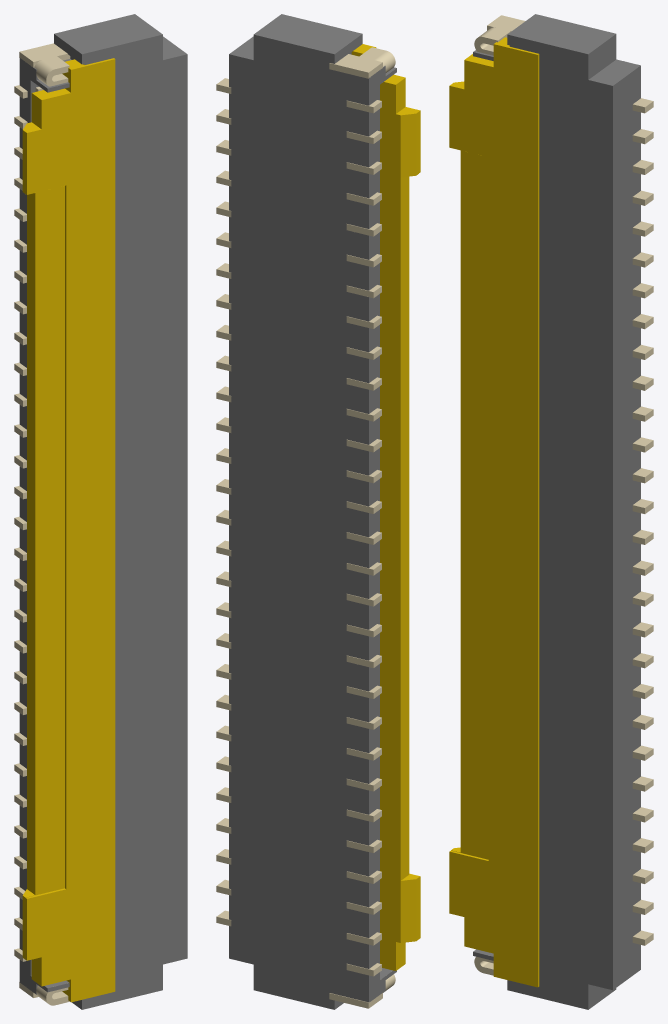
Rendered from Hirose_FH26-57S-0.3SHW_2Rows-57Pins-1MP_P0.60mm_Horizontal.glb.
The picture shows the model from 3 angles, left to right: view 1: azimuth 30°, elevation 25°; view 2: azimuth 150°, elevation 25°; view 3: azimuth 330°, elevation 25°; orthographic projection.
Visible parts, largest first — view 1: Shape_IndexedFaceSet.004, Shape_IndexedFaceSet.031, Shape_IndexedFaceSet.034, Shape_IndexedFaceSet.049, Shape_IndexedFaceSet.014, Shape_IndexedFaceSet.001, Shape_IndexedFaceSet.042, Shape_IndexedFaceSet.432; view 2: Shape_IndexedFaceSet.003, Shape_IndexedFaceSet.032, Shape_IndexedFaceSet.014, Shape_IndexedFaceSet.049, Shape_IndexedFaceSet.001, Shape_IndexedFaceSet.050, Shape_IndexedFaceSet.030, Shape_IndexedFaceSet.432; view 3: Shape_IndexedFaceSet.004, Shape_IndexedFaceSet.031, Shape_IndexedFaceSet.006, Shape_IndexedFaceSet.034, Shape_IndexedFaceSet.001, Shape_IndexedFaceSet.038, Shape_IndexedFaceSet, Shape_IndexedFaceSet.002, Shape_IndexedFaceSet.432.
Boxes of the visible parts, <box> form: Shape_IndexedFaceSet.004: <box>47,34,187,1009</box>; Shape_IndexedFaceSet.031: <box>27,59,115,1002</box>; Shape_IndexedFaceSet.034: <box>26,186,64,897</box>; Shape_IndexedFaceSet.049: <box>27,193,35,894</box>; Shape_IndexedFaceSet.014: <box>19,58,47,994</box>; Shape_IndexedFaceSet.001: <box>54,14,162,54</box>; Shape_IndexedFaceSet.042: <box>65,185,66,888</box>; Shape_IndexedFaceSet.432: <box>19,43,69,68</box>; Shape_IndexedFaceSet.003: <box>229,34,368,1009</box>; Shape_IndexedFaceSet.032: <box>351,51,400,970</box>; Shape_IndexedFaceSet.014: <box>369,66,396,1002</box>; Shape_IndexedFaceSet.049: <box>400,176,409,880</box>; Shape_IndexedFaceSet.001: <box>254,14,362,54</box>; Shape_IndexedFaceSet.050: <box>400,113,416,177</box>; Shape_IndexedFaceSet.030: <box>400,879,416,942</box>; Shape_IndexedFaceSet.432: <box>330,47,386,72</box>; Shape_IndexedFaceSet.004: <box>473,34,612,1009</box>; Shape_IndexedFaceSet.031: <box>449,44,537,987</box>; Shape_IndexedFaceSet.006: <box>613,65,640,989</box>; Shape_IndexedFaceSet.034: <box>451,150,488,859</box>; Shape_IndexedFaceSet.001: <box>507,14,615,54</box>; Shape_IndexedFaceSet.038: <box>538,54,539,986</box>; Shape_IndexedFaceSet: <box>588,34,616,79</box>; Shape_IndexedFaceSet.002: <box>589,59,640,85</box>; Shape_IndexedFaceSet.432: <box>484,15,525,40</box>.
Size of the model in its own units: 1.4 by 7.32 by 0.4135.
